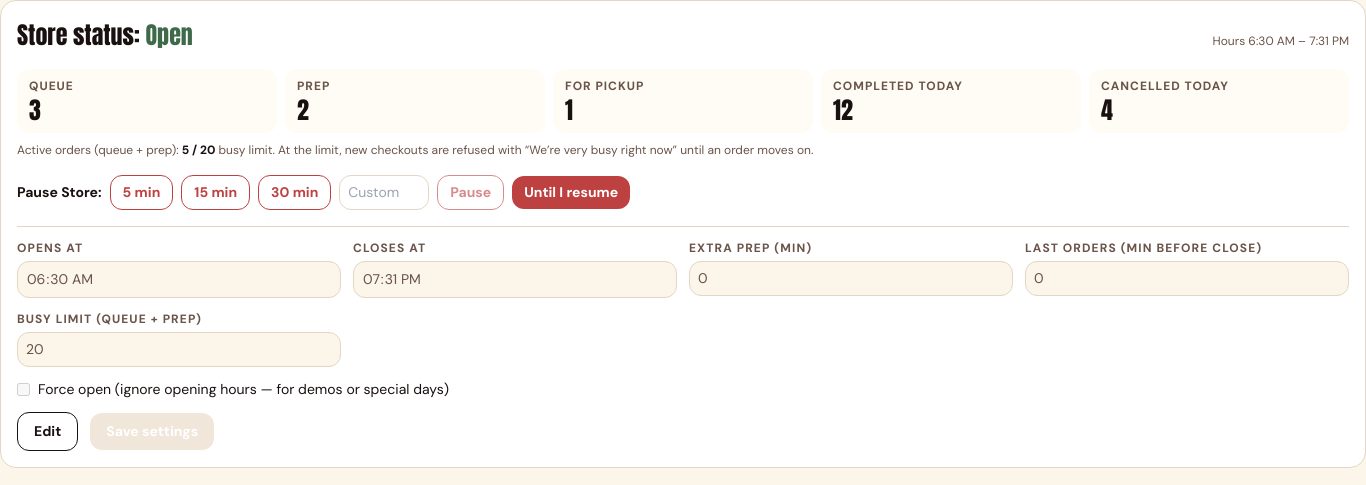
StoreControlPanel (issue #115 follow-up) › is read-only with Save disabled until Edit is pressed
The width and height of the screenshot is (1366, 485).
Expected: the time field labelled "Opens at" is disabled, [17,261,341,298]
Expected: the button "Save settings" is disabled, [90,413,214,450]
Click the button "Edit".
click(48, 432)  # box [17,412,78,451]
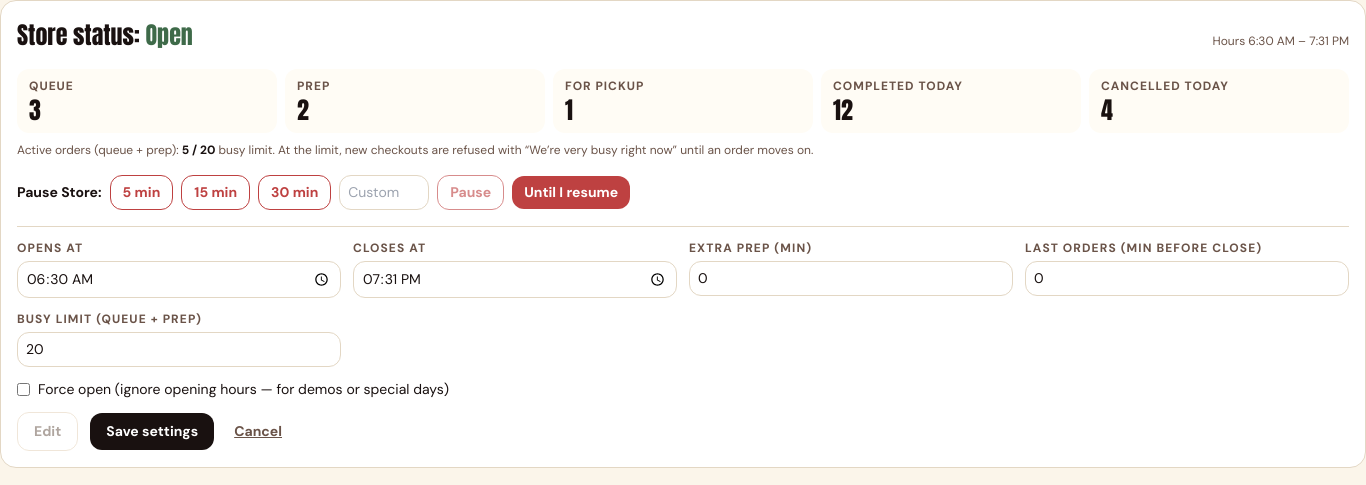
Expected: the time field labelled "Opens at" is enabled, [17,261,341,298]
Result: the button "Save settings" is enabled at [90,413,214,450]
Result: the button "Edit" is disabled at [17,412,78,451]
